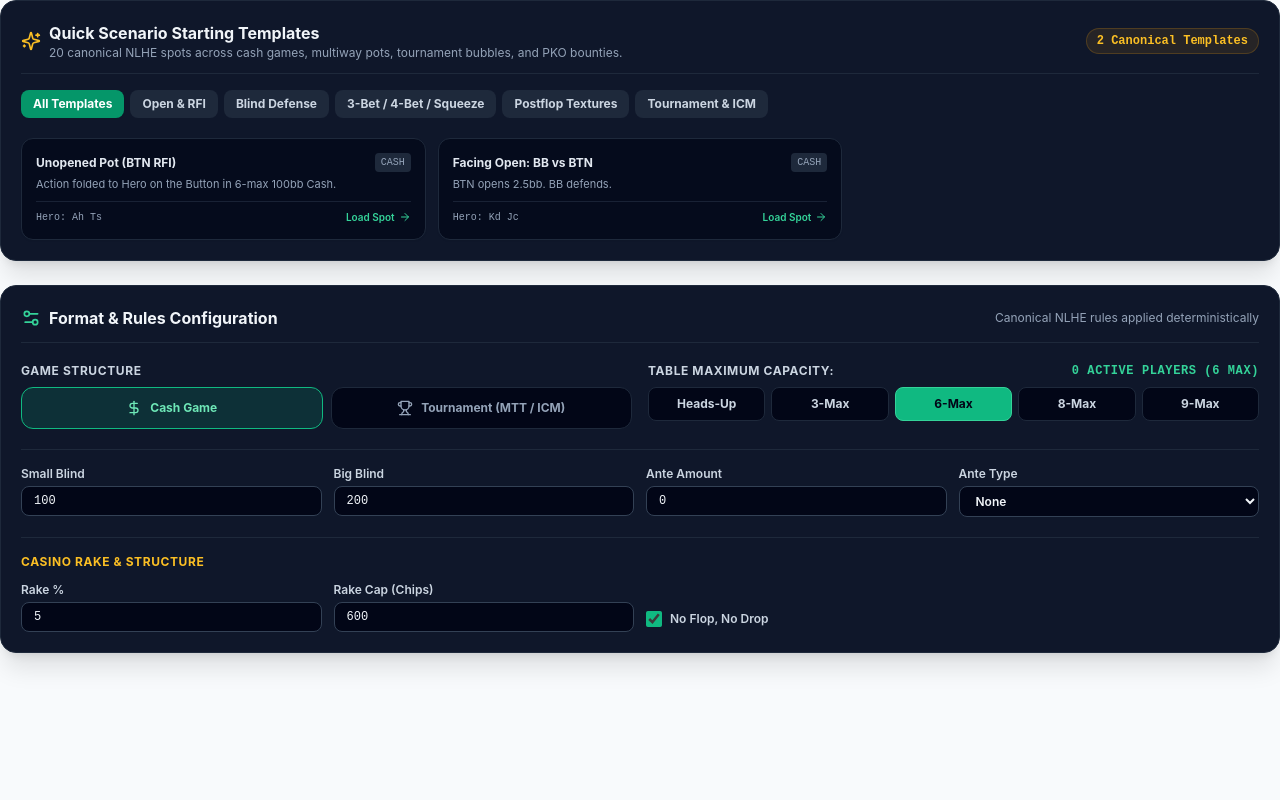
ScenarioBuilder › filters templates by category
// Click "Blind Defense" filter
Click the button "Blind Defense" at x=276, y=104, box top-left (224, 90), bottom-right (329, 118)
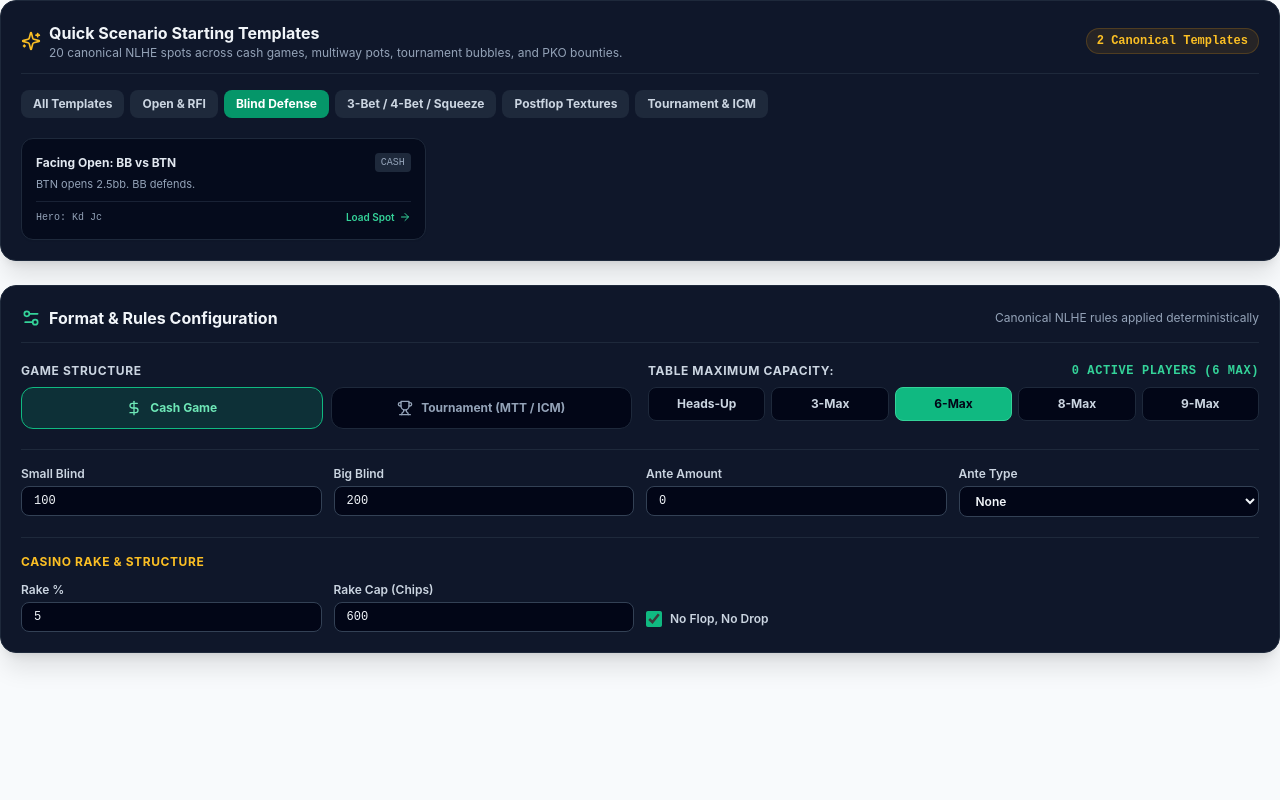
Expected: the text "Facing Open: BB vs BTN" is shown, top-left (36, 154), bottom-right (176, 170)
Now the text "Unopened Pot (BTN RFI)" is gone
